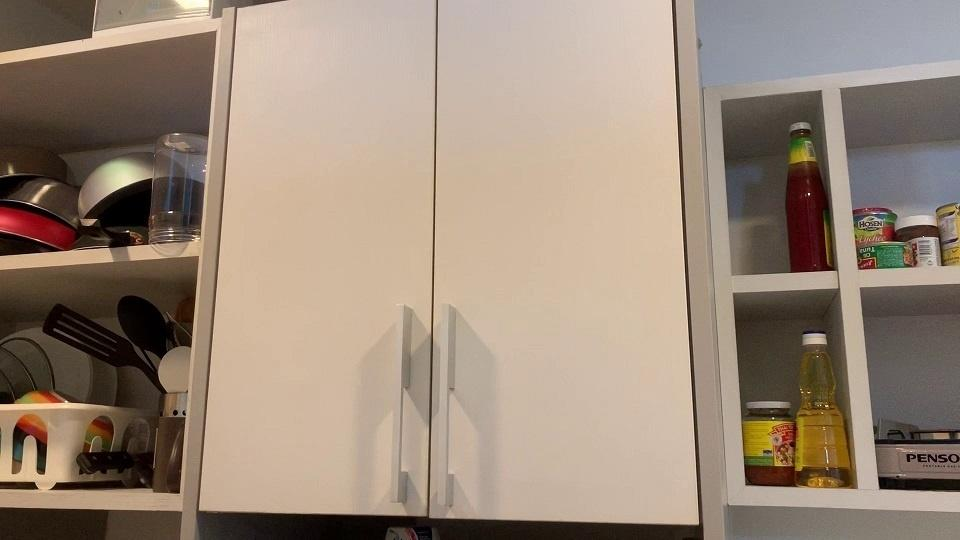cabinet_door: (448, 0, 688, 524), (220, 0, 425, 523)
handle: (389, 305, 429, 506), (433, 299, 467, 507)
